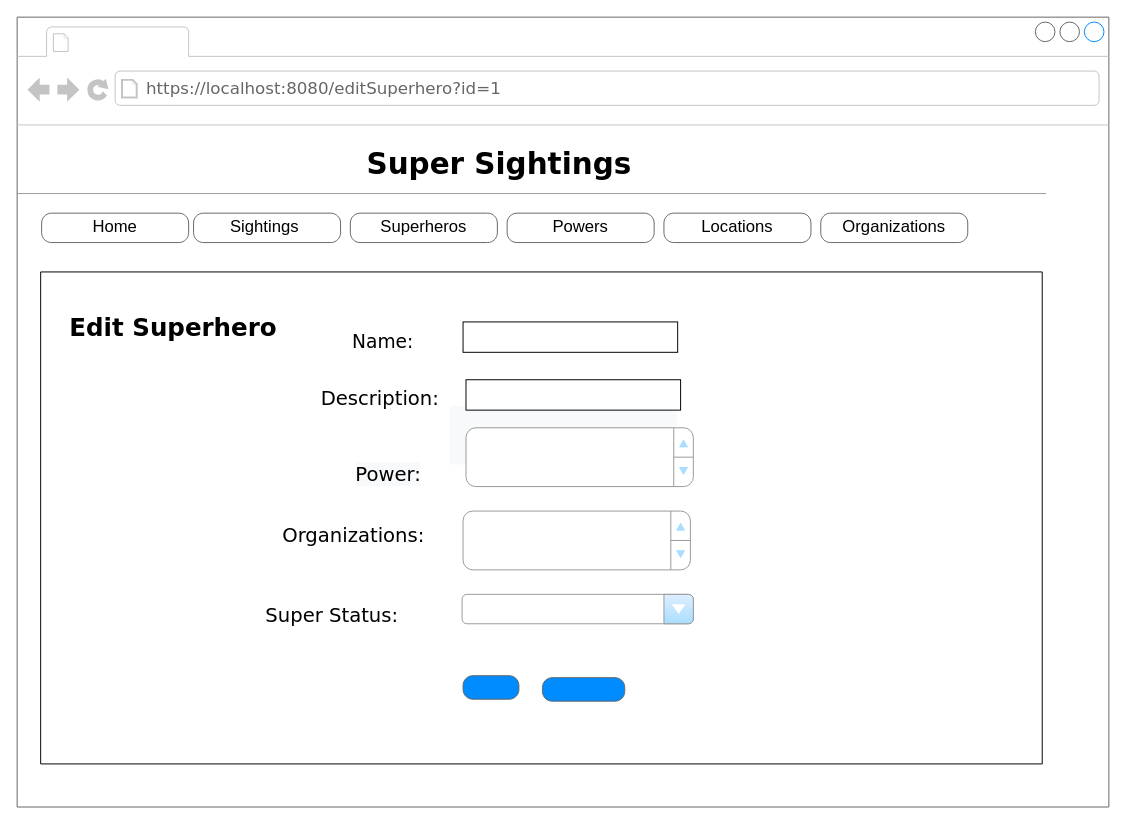
This 1126x824 diagram has some shape labels left out. The shapes that lost their labels are listed below. From the top down, each one's centre as x and y in pixels, then its label:
[129,41]: Page 3
[577,608]: Superhero
[490,687]: Ok
[583,689]: Cancel
